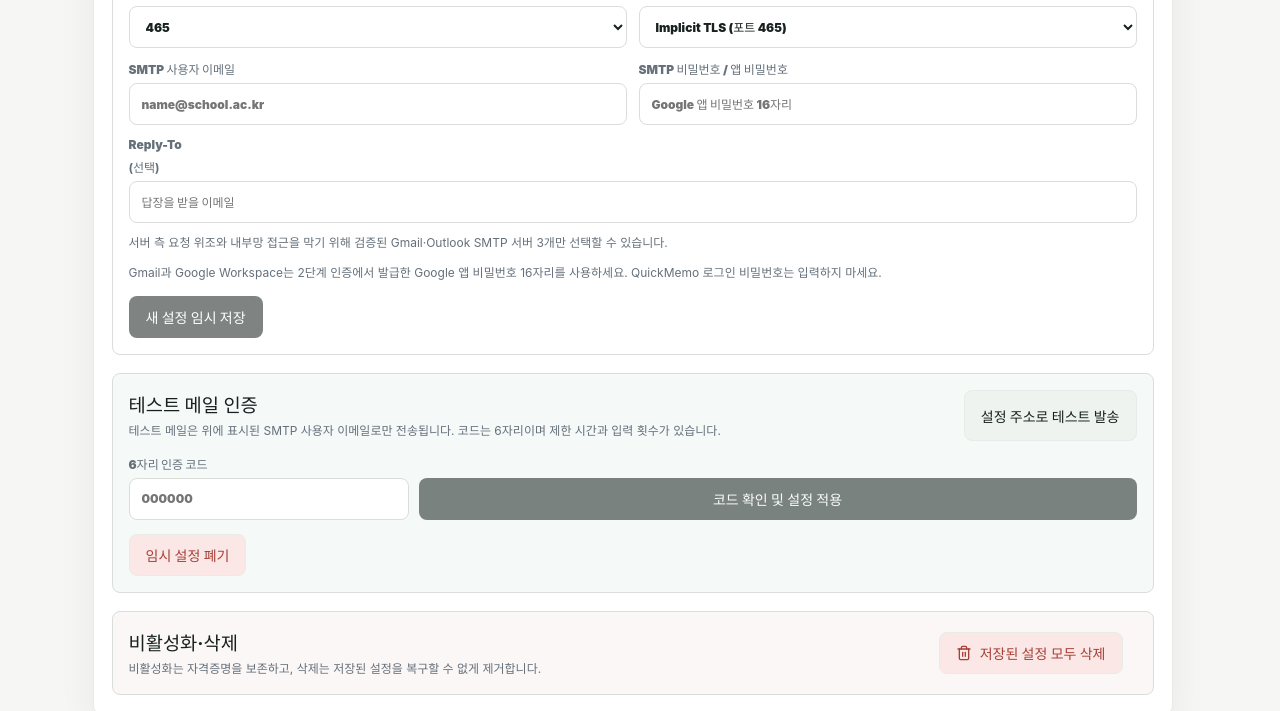
Scenario: AdminEmailSettingsPanel › locks mutation retries after an ambiguous failure until status refresh succeeds
(page scrolled)
Type "123456" into the field labelled "6자리 인증 코드" at (268, 499), box [128,478,408,520]
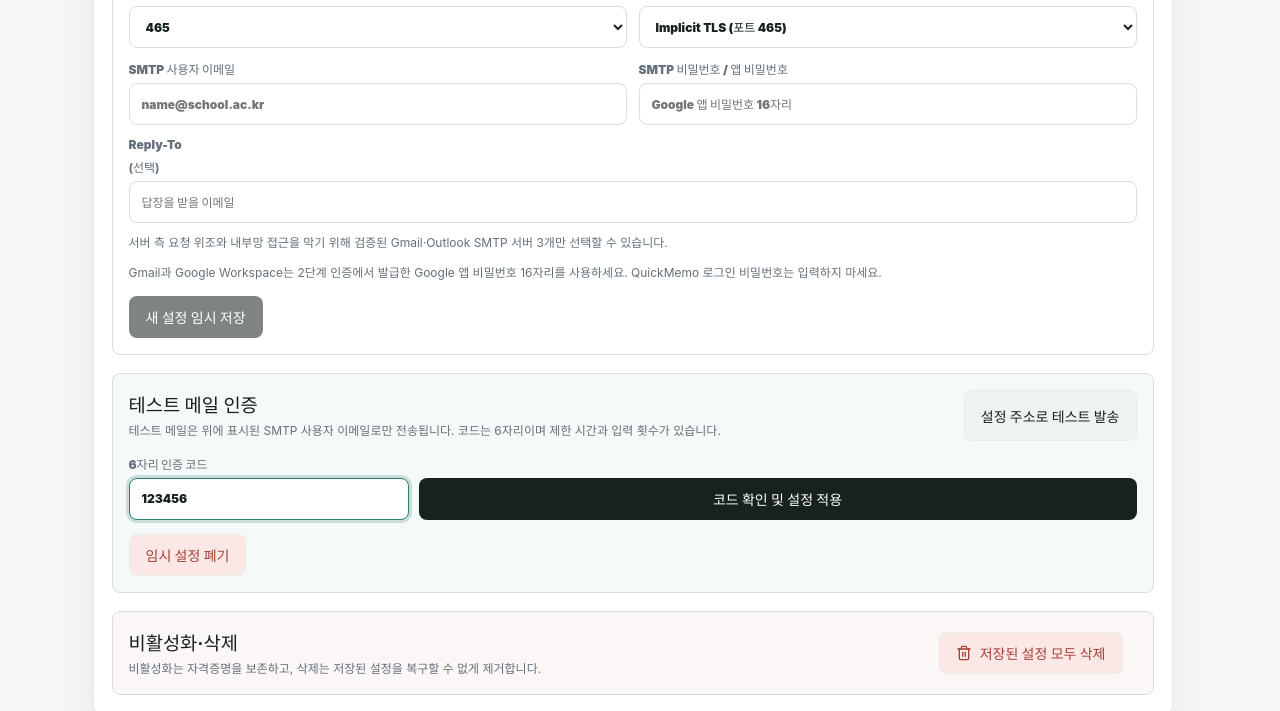
Click the button "코드 확인 및 설정 적용" at (778, 499), box [418,478,1136,520]
(page scrolled)
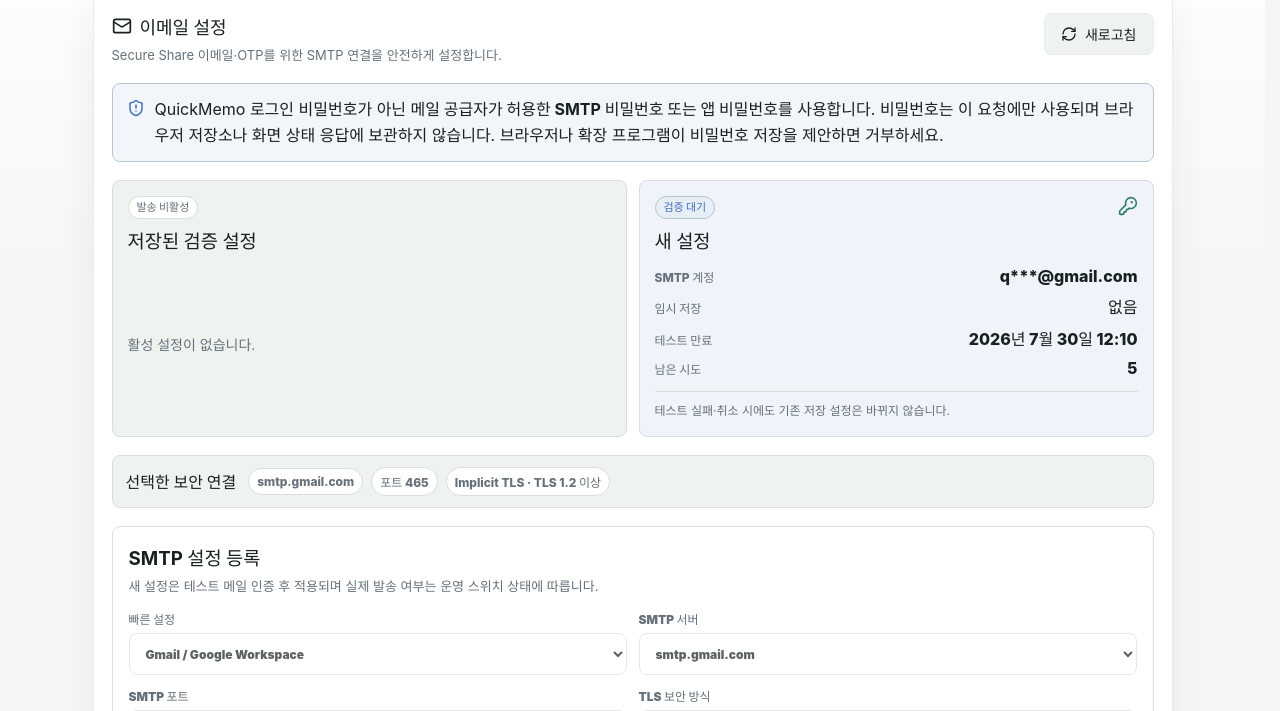
Click the button with aria-label "이메일 설정 상태 새로고침" at (1099, 34), box [1044,13,1154,55]
(page scrolled)
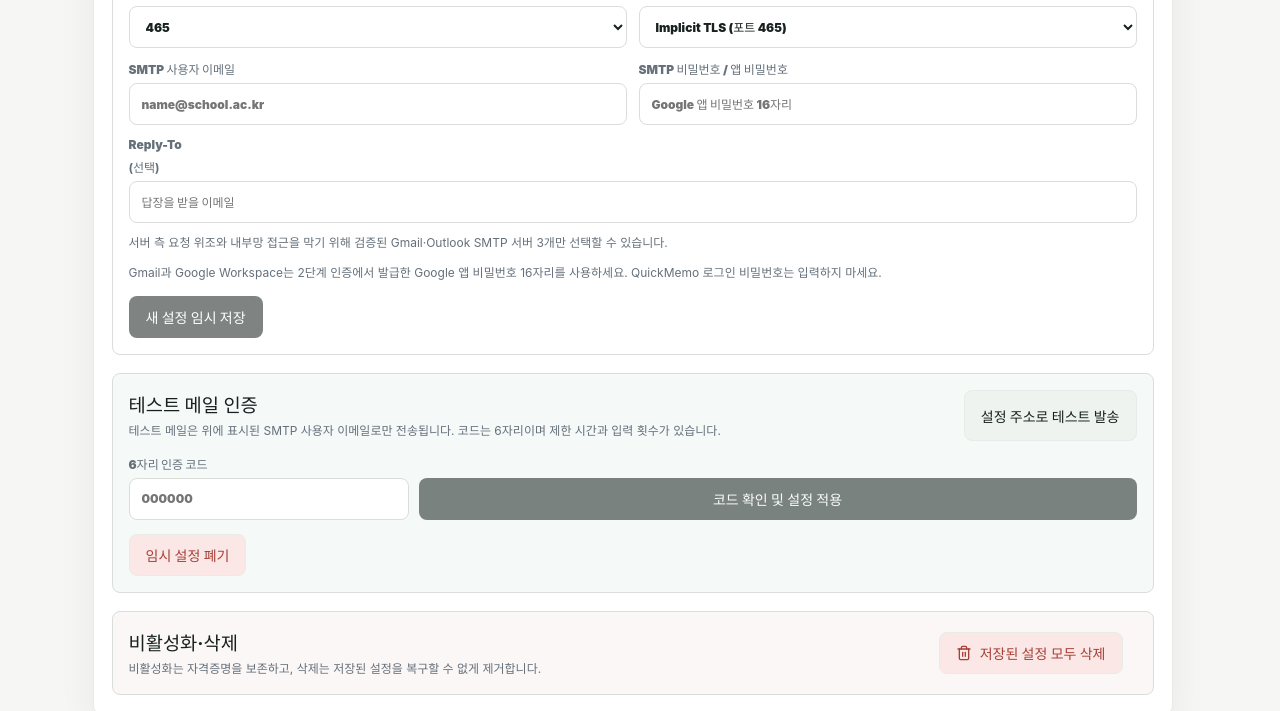
Expected: the field labelled "6자리 인증 코드" is enabled, [128,478,408,520]
